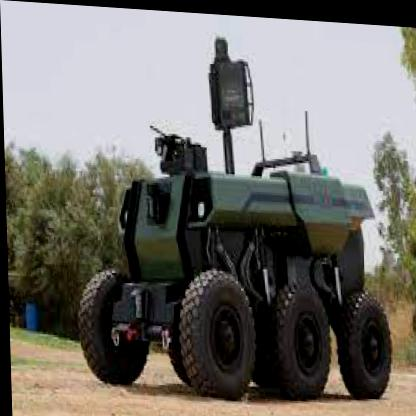UGV: (70, 119, 392, 406)
